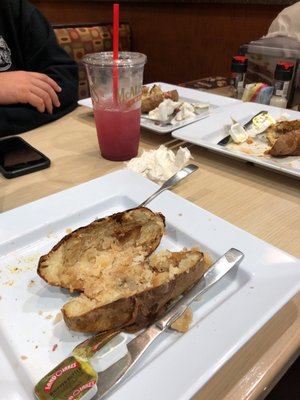burger: (34, 246, 247, 400)
pizza: (80, 51, 146, 161)
sandwich: (54, 248, 244, 400)
soup: (36, 205, 210, 335)
